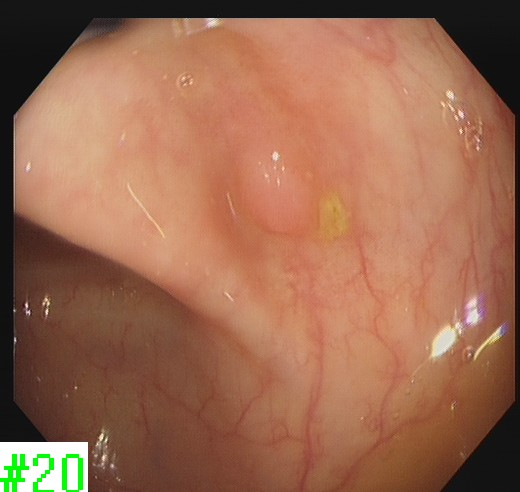adenoma: (229, 137, 325, 237)
